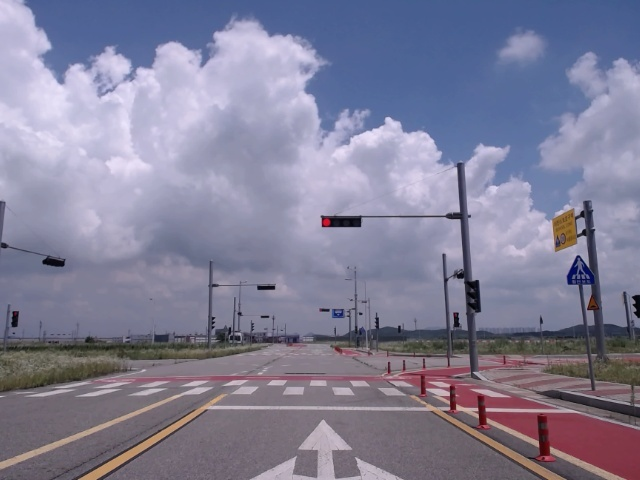red_4: (322, 217, 361, 227)
